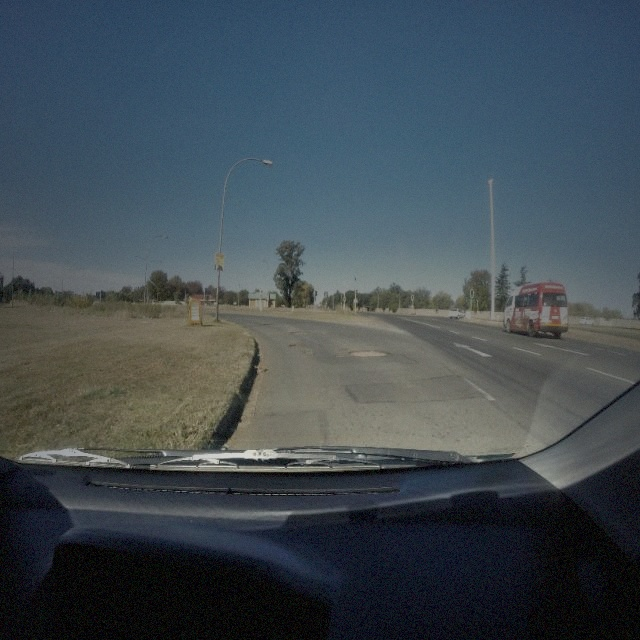pothole: (347, 345, 390, 359), (288, 340, 316, 357), (288, 328, 310, 337)
